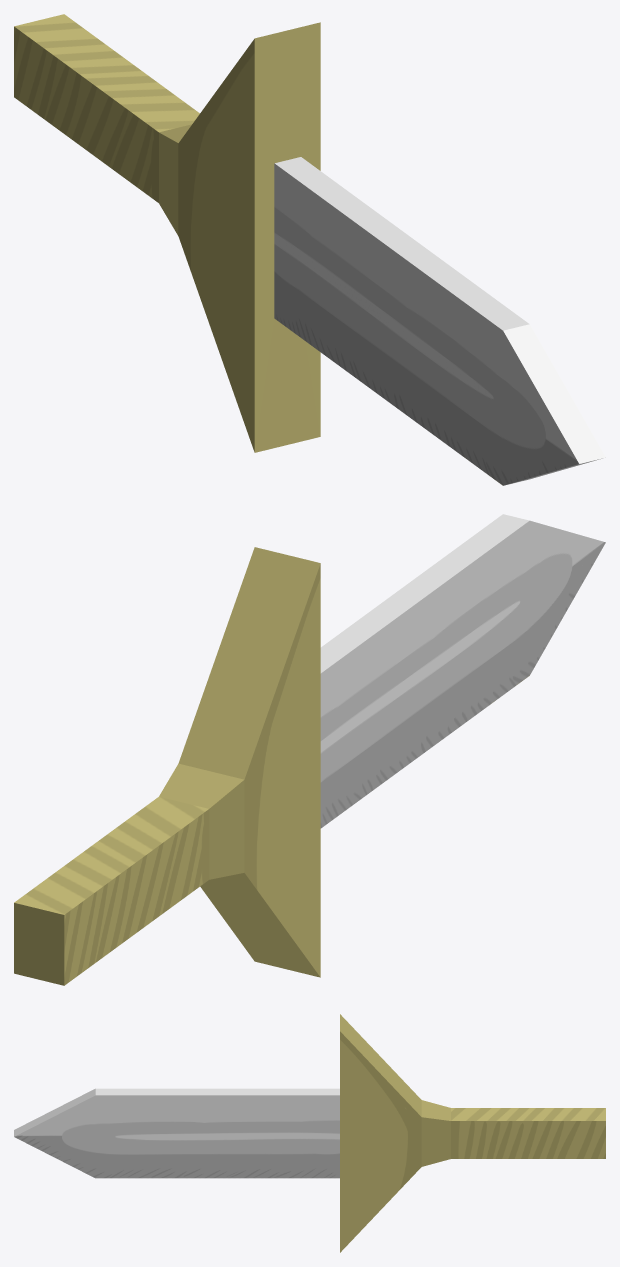
The model's file is Sword.obj.
3 renders of one model, top to bottom at view 1: azimuth 30°, elevation 25°; view 2: azimuth 150°, elevation 25°; view 3: azimuth 270°, elevation 25°, orthographic. The views are drawn at different scales.
Parts seen in each view (by area): view 1: Sword; view 2: Sword; view 3: Sword.
Part boxes in pixels (bbox=[...]): Sword: bbox=[14, 14, 605, 485]; Sword: bbox=[14, 514, 605, 985]; Sword: bbox=[14, 1014, 605, 1252].
Bounding box in the file's own units: 0.05 × 0.3 × 0.7261.
1 material, 1 textured.
